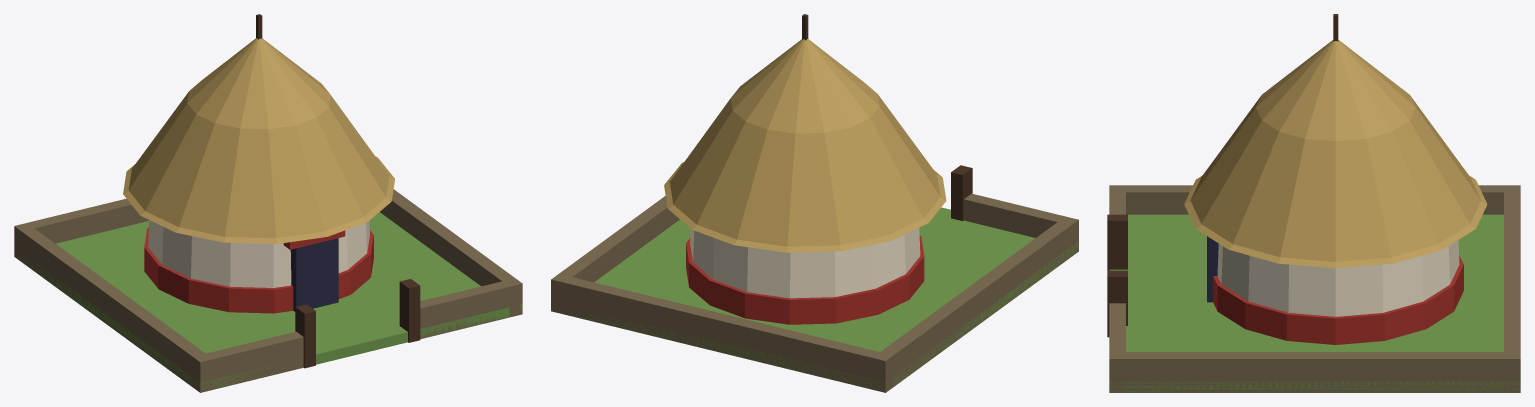
The model's file is house-1x1-1f-rondavel-a-solar.glb.
The picture shows the model from 3 angles, left to right: view 1: azimuth 30°, elevation 25°; view 2: azimuth 150°, elevation 25°; view 3: azimuth 270°, elevation 25°; orthographic projection. The views are drawn at different scales.
Visible parts, largest first — view 1: house-1x1-1f-rondavel-a-solar; view 2: house-1x1-1f-rondavel-a-solar; view 3: house-1x1-1f-rondavel-a-solar.
Part boxes in pixels (bbox=[...]): house-1x1-1f-rondavel-a-solar: bbox=[14, 14, 522, 392]; house-1x1-1f-rondavel-a-solar: bbox=[551, 14, 1078, 392]; house-1x1-1f-rondavel-a-solar: bbox=[1107, 14, 1520, 392].
Size of the model in its own units: 0.99 by 0.7725 by 0.995.
1 material, 1 textured.
